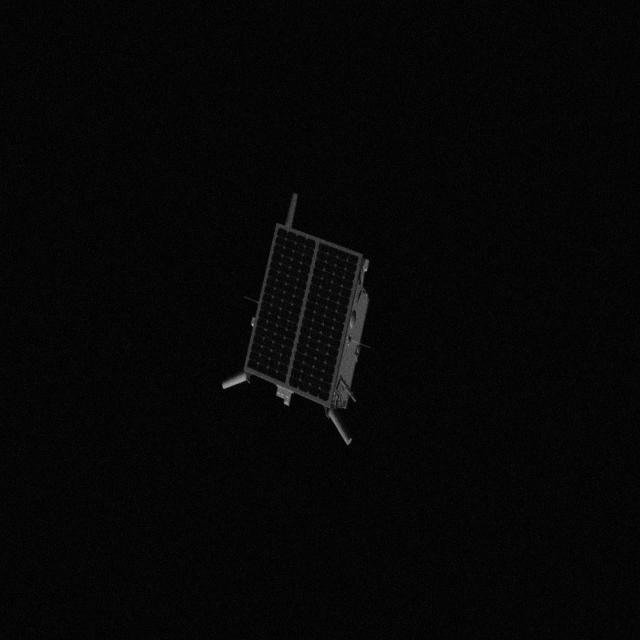satellite: (214, 188, 384, 452)
